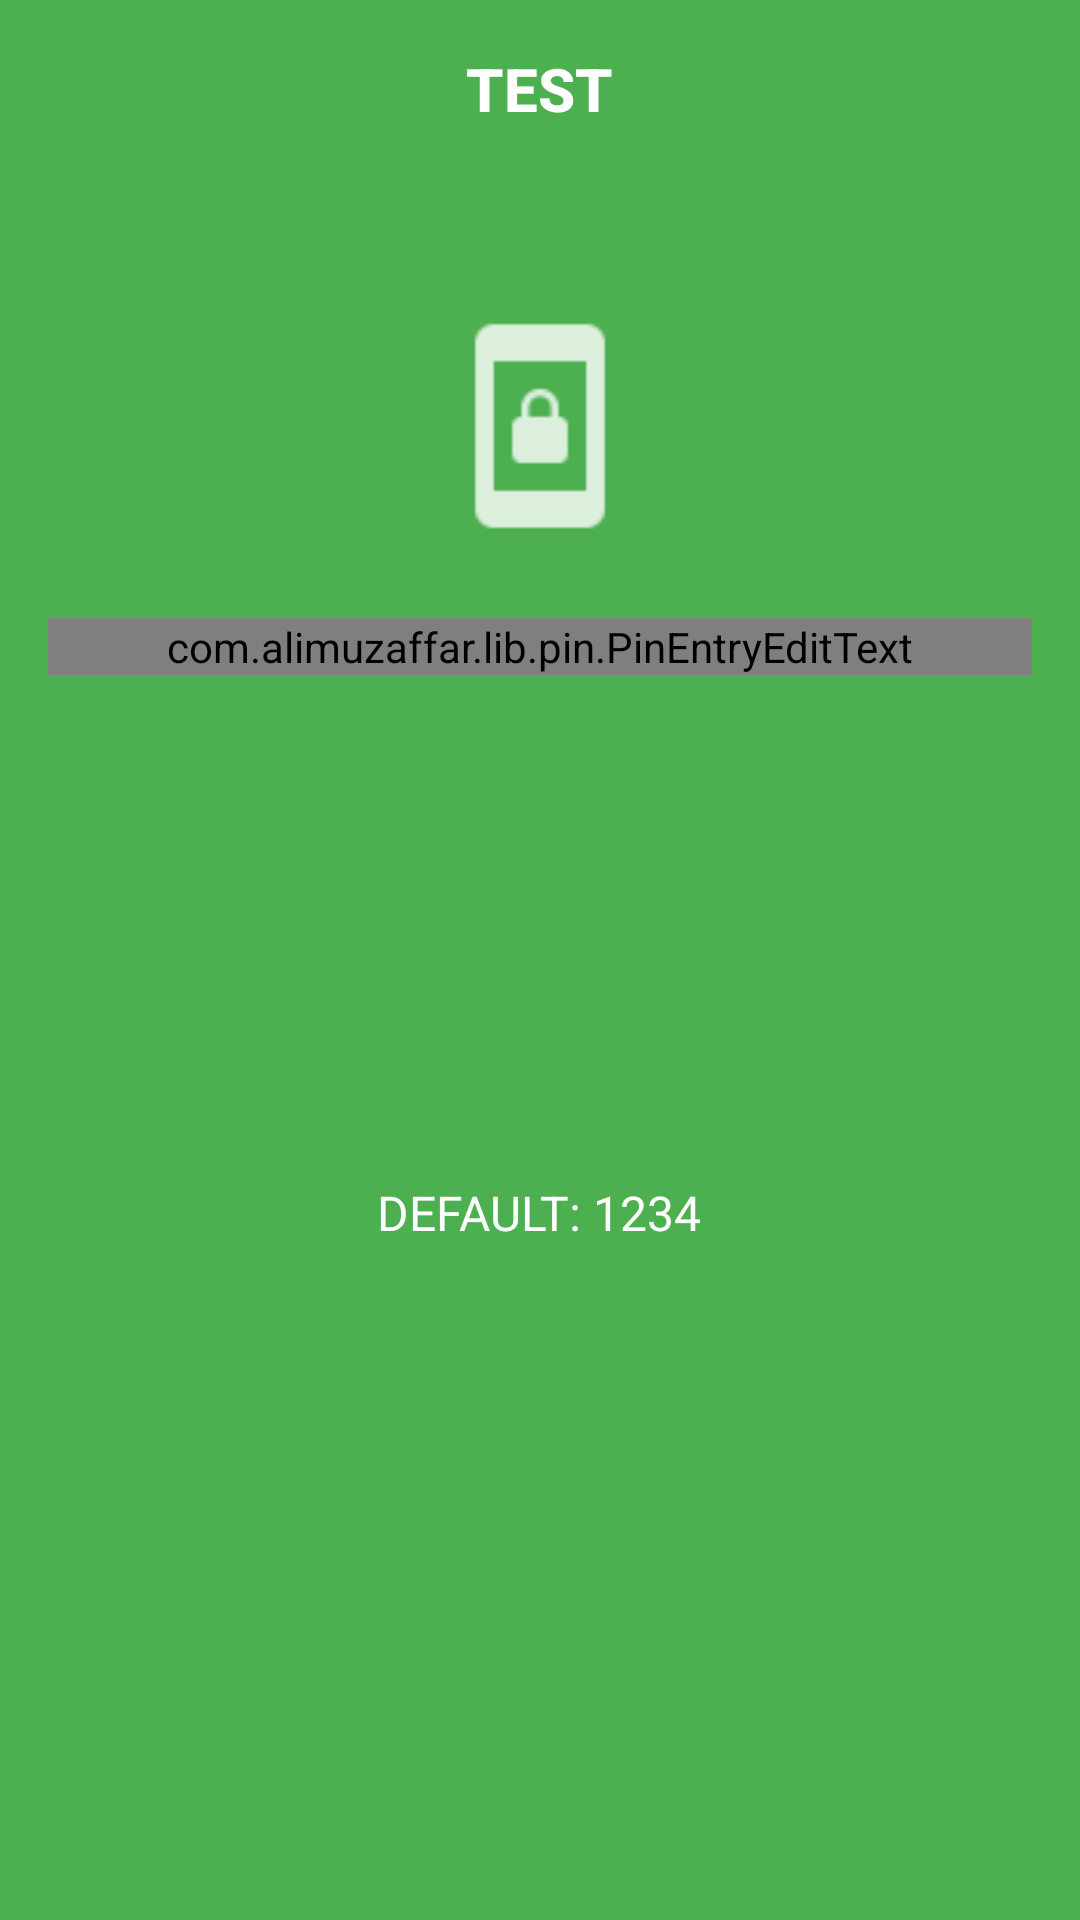

Where to tap for icons on this 1080x1920 app screen, as [x,y]:
screen lock: [540,426]
